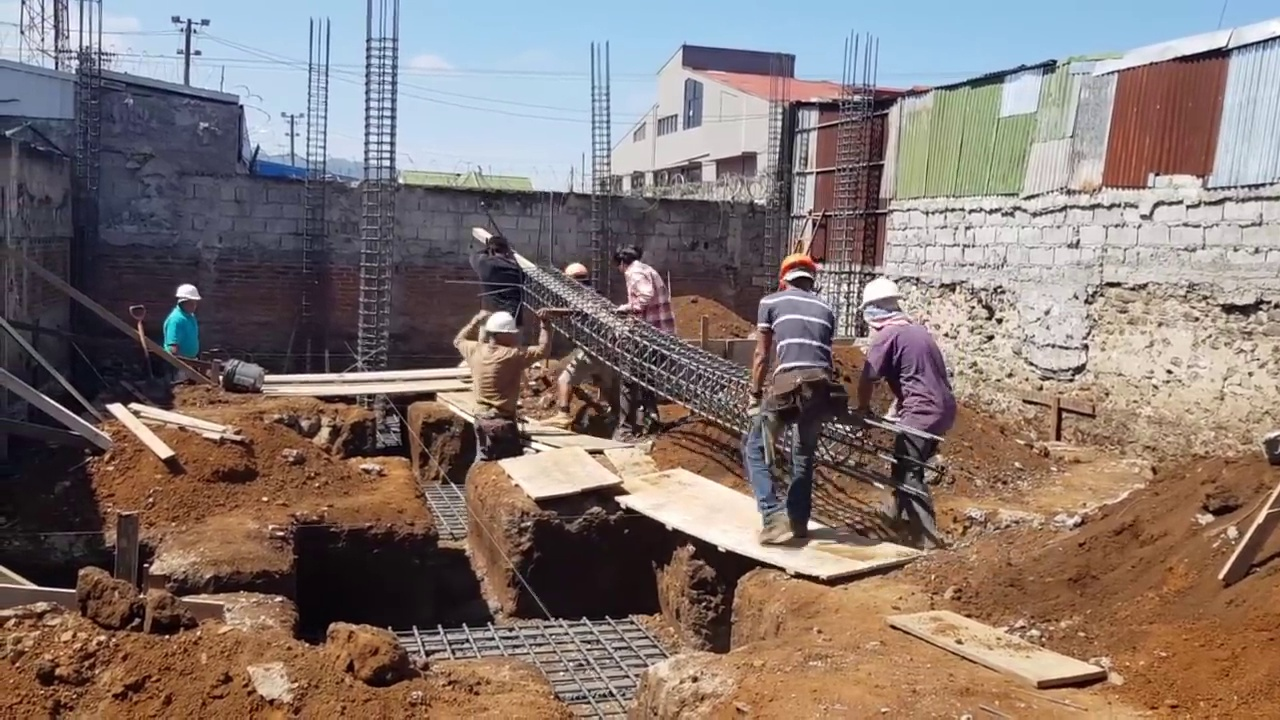helmet: (858, 277, 907, 312), (779, 255, 818, 283), (481, 310, 521, 336), (563, 261, 588, 281), (174, 285, 200, 302)
helmet-off: (618, 246, 646, 279), (486, 234, 514, 261)
helmet-on: (857, 277, 907, 332), (776, 254, 819, 298), (481, 310, 524, 351), (562, 259, 594, 291), (173, 285, 201, 315)
person: (848, 274, 946, 549), (755, 254, 840, 541), (450, 307, 553, 464), (614, 247, 676, 438), (544, 260, 611, 430), (467, 232, 524, 314), (161, 285, 201, 360)
